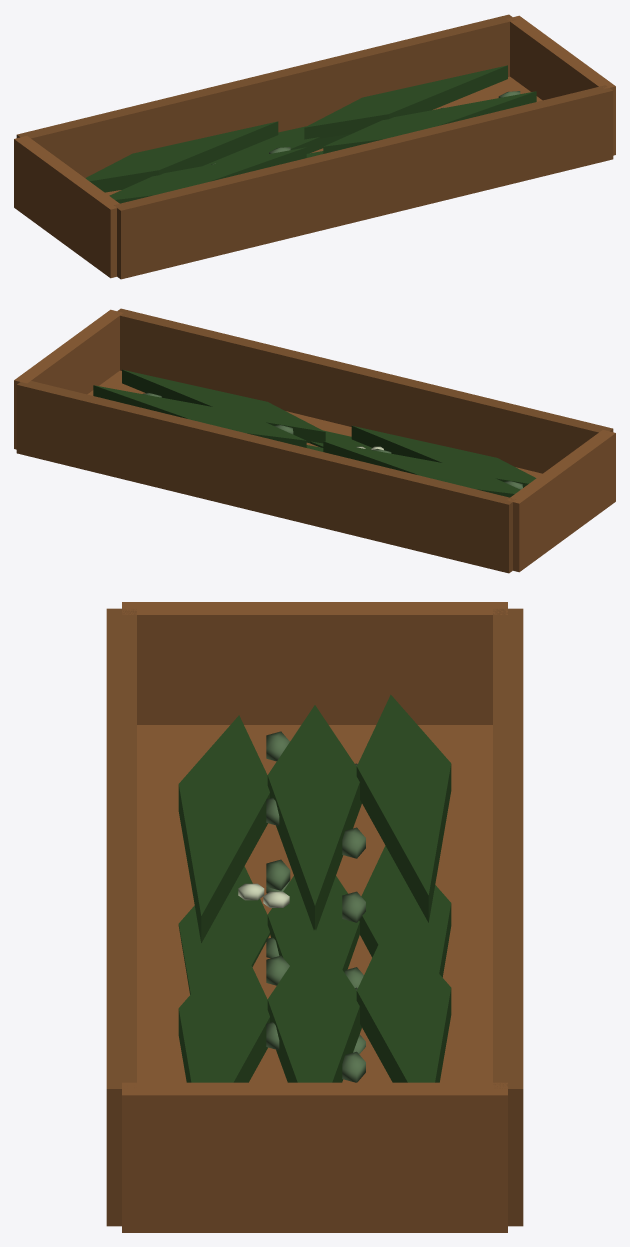
The model's file is Sea_Wakame.fbx.
3 views of the same model, one above another, from view 1: azimuth 30°, elevation 25°; view 2: azimuth 150°, elevation 25°; view 3: azimuth 270°, elevation 25° (orthographic). The views are drawn at different scales.
Visible parts, largest first — view 1: Sea_Wakame__Stack, Sea_Wakame; view 2: Sea_Wakame__Stack, Sea_Wakame; view 3: Sea_Wakame__Stack, Sea_Wakame.
Boxes of the visible parts, x1=… form: Sea_Wakame__Stack: x1=14, y1=14, x2=615, y2=279; Sea_Wakame: x1=203, y1=126, x2=350, y2=165; Sea_Wakame__Stack: x1=14, y1=308, x2=615, y2=573; Sea_Wakame: x1=306, y1=430, x2=371, y2=451; Sea_Wakame__Stack: x1=106, y1=602, x2=523, y2=1232; Sea_Wakame: x1=178, y1=845, x2=451, y2=1054.
Size of the model in its own units: 0.308 by 0.04 by 0.1099.
